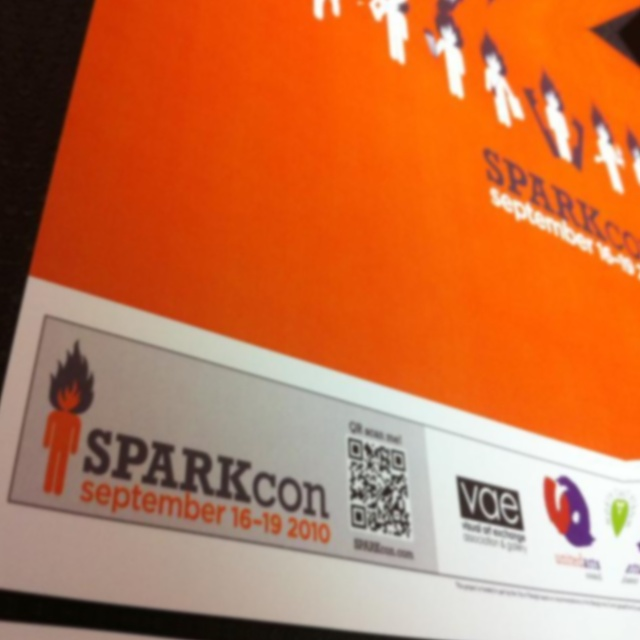qr-code: (337, 437, 422, 538)
